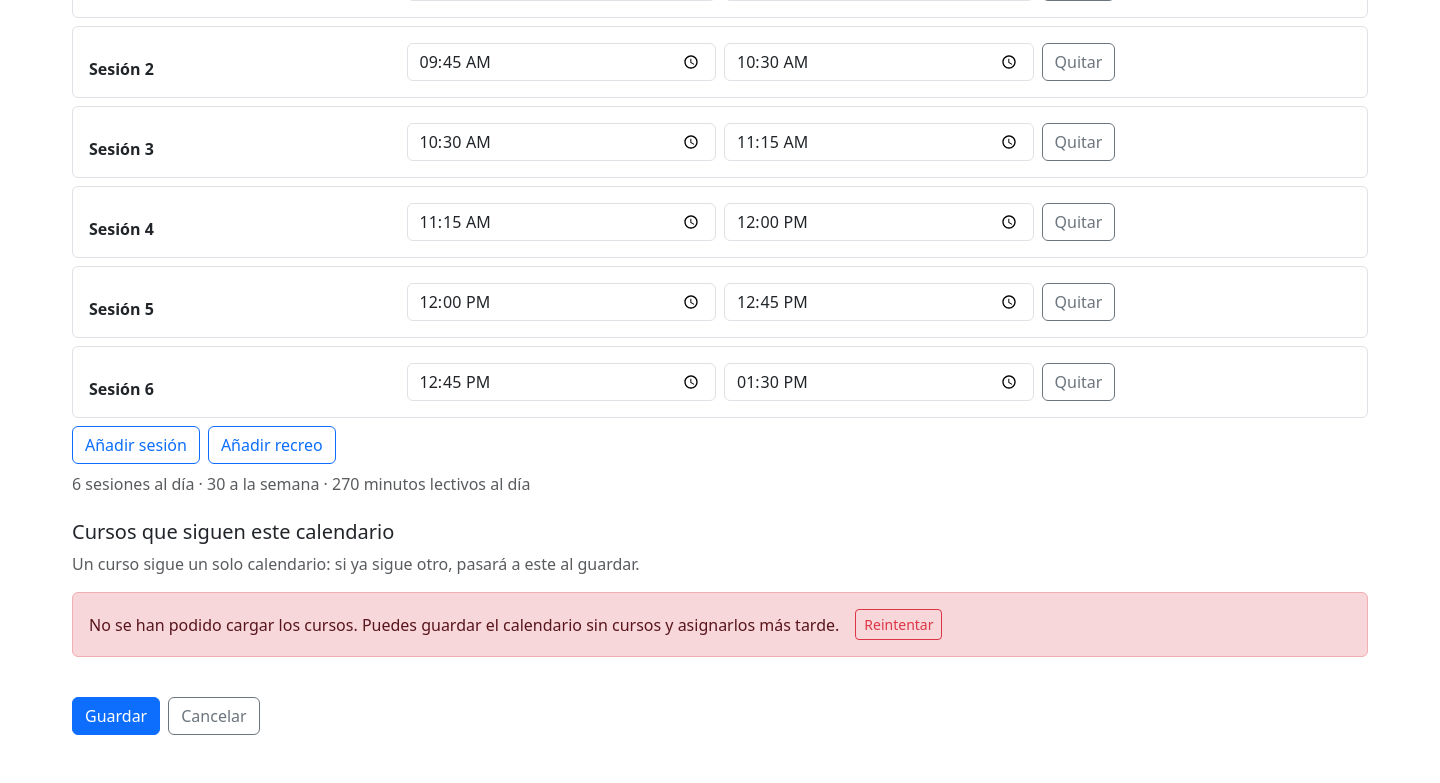
Test case: CreateCalendarPage › loading what the form offers › shows an error with Retry when the courses fail, and asks again
(page scrolled)
Expected: the message shows "No se han podido cargar los cursos. Puedes guardar el calendario sin cursos y asignarlos más tarde.", [89,614,839,636]
What coordinates should you click on to do the following:
click the button "Reintentar"
I would click on:
 (899, 624)
Its box is [855,609,942,640].
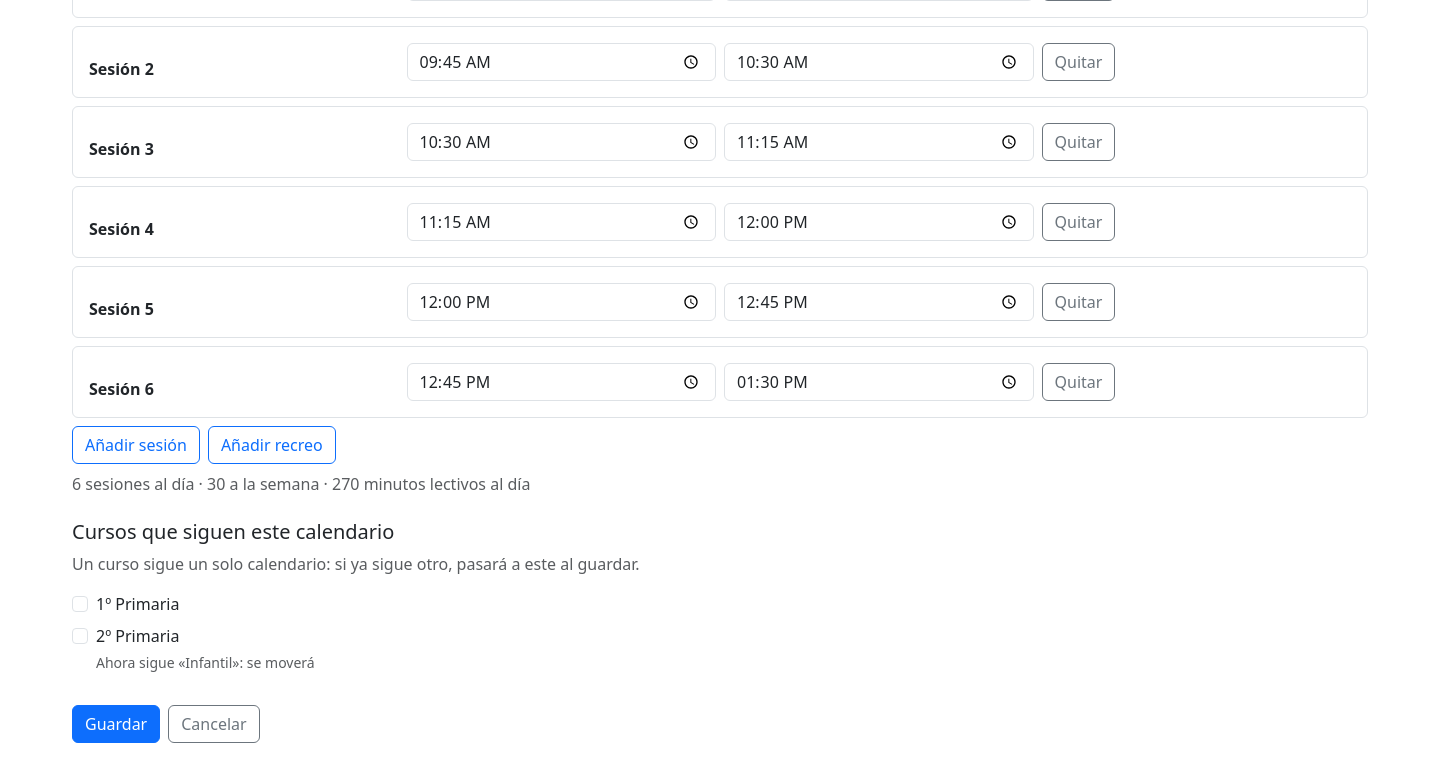
Expected: the checkbox labelled "1º Primaria" is shown, [72,596,88,612]
